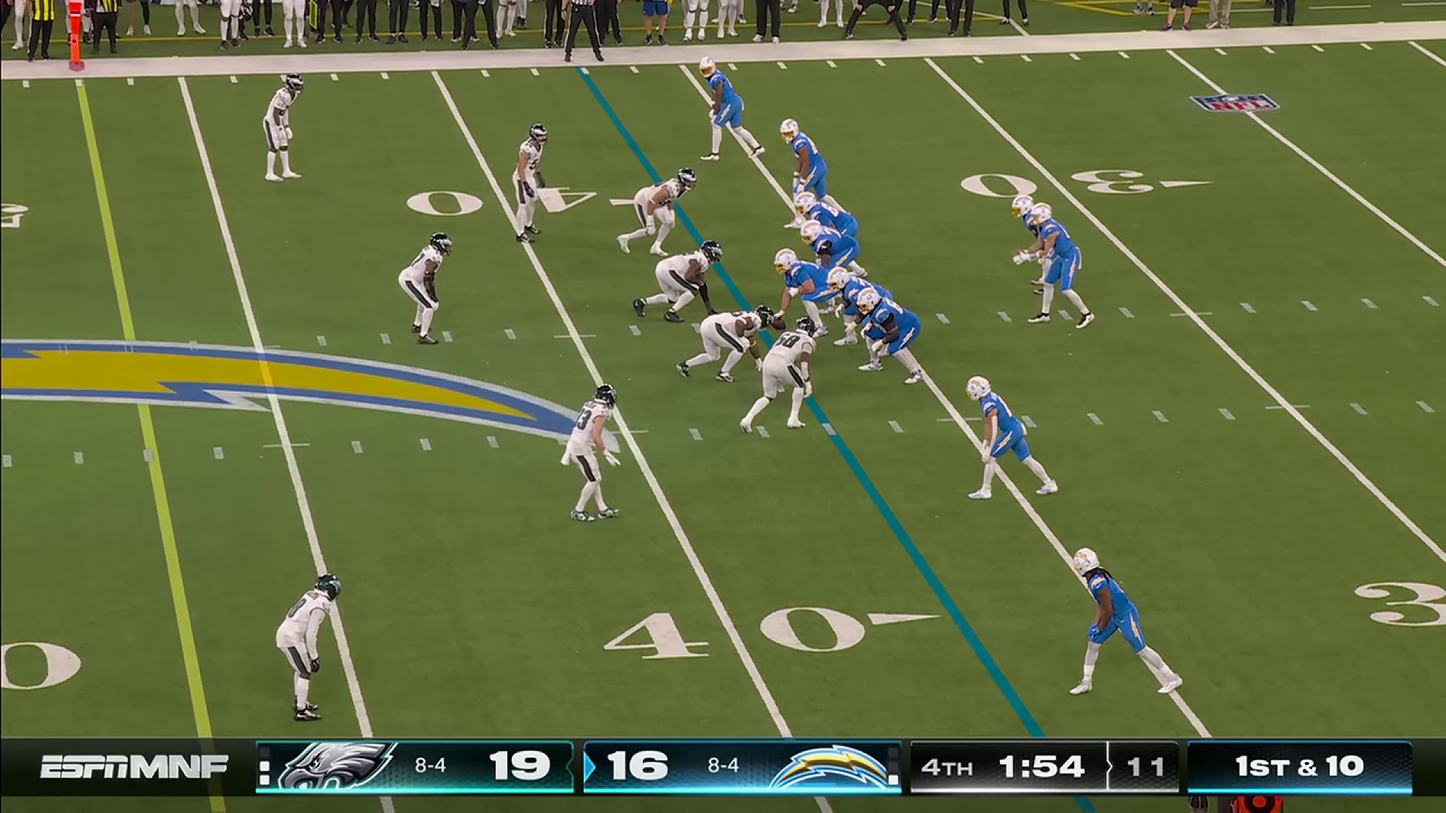ball: (769, 310, 789, 330)
player: (1071, 545, 1150, 700), (278, 571, 342, 722), (964, 379, 1044, 497), (572, 387, 624, 524), (754, 325, 816, 427), (857, 287, 921, 381), (1033, 203, 1086, 313), (690, 303, 769, 376), (403, 236, 452, 350), (266, 72, 311, 181), (698, 58, 749, 154), (651, 243, 722, 310), (633, 169, 690, 242), (774, 249, 830, 318), (512, 128, 545, 243), (831, 268, 876, 347), (1008, 189, 1043, 285), (803, 224, 863, 273), (778, 119, 822, 185), (803, 197, 856, 242)
